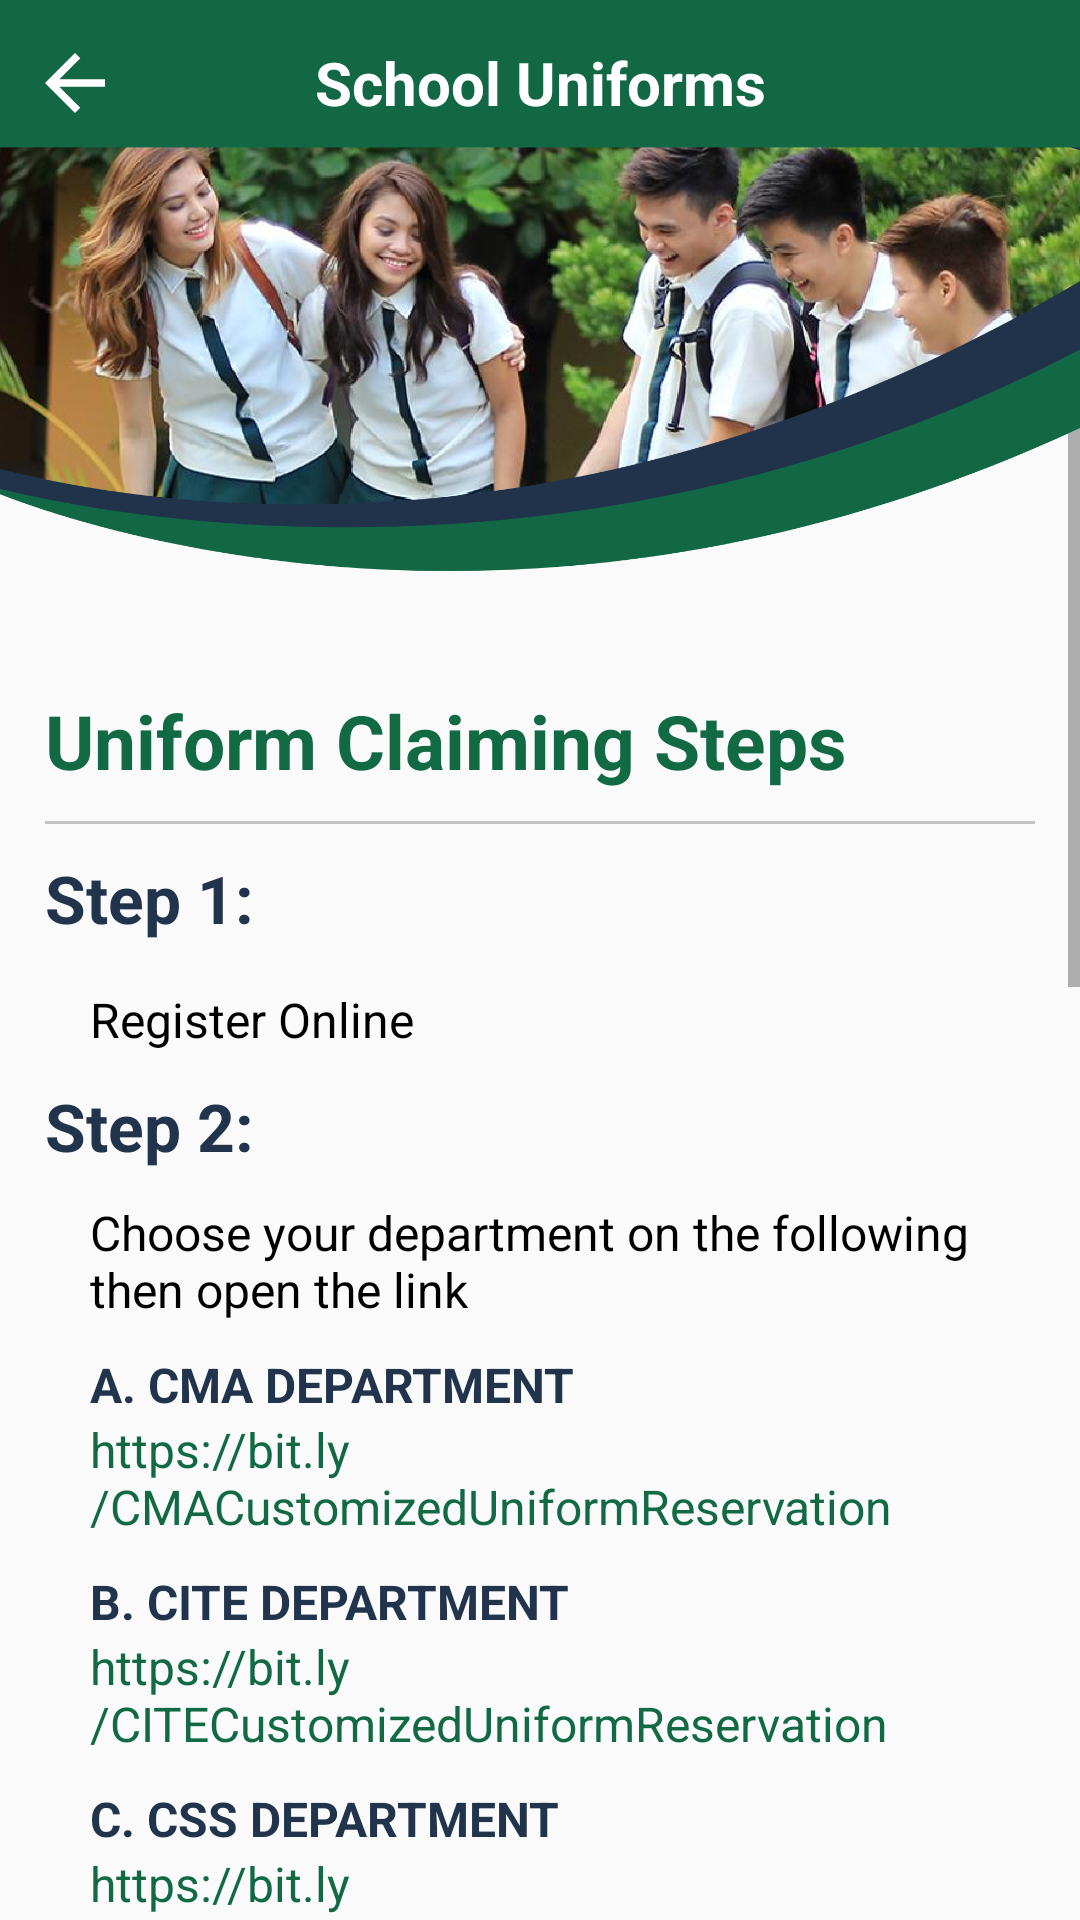

Icon click points for this 1080 × 1920 phone screenshot, format (x=x, y=y):
back: (x=75, y=83)
